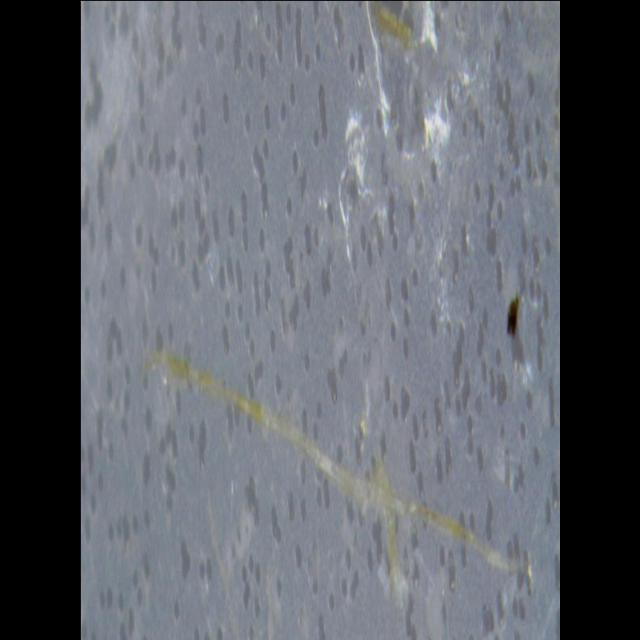Fibre: (135, 328, 532, 604)
